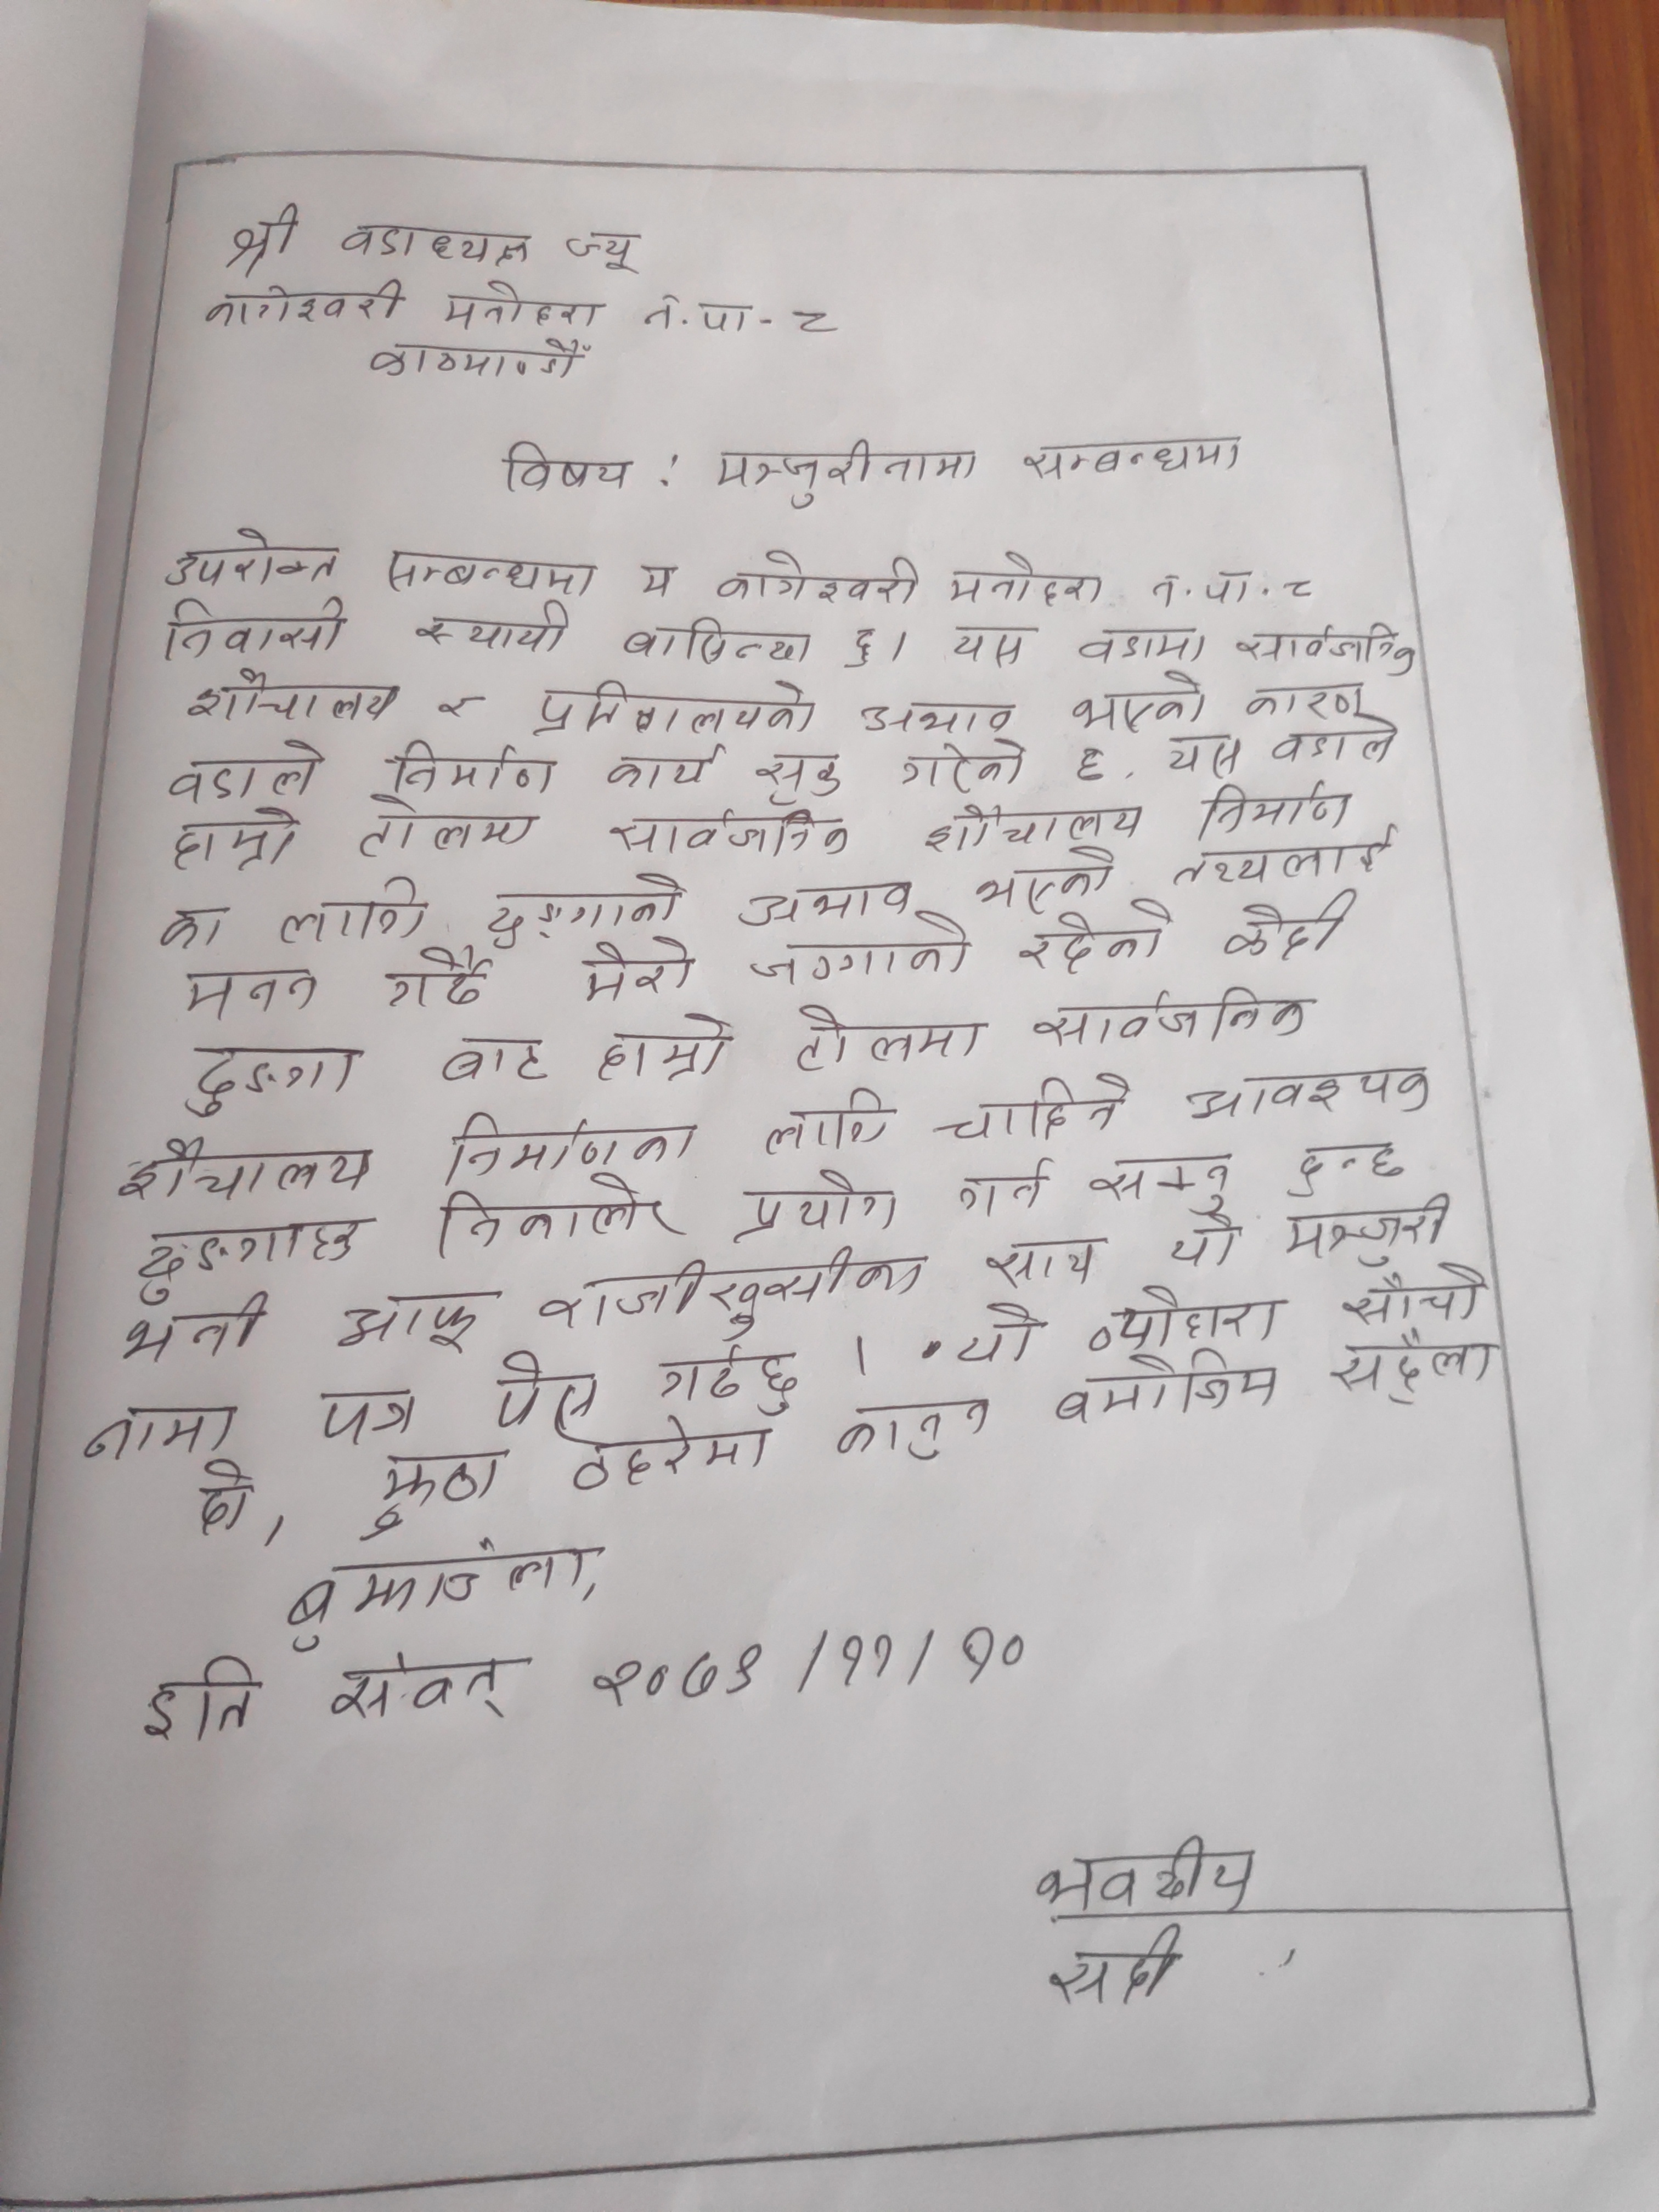text: (589, 1623, 1044, 1710), (284, 1543, 606, 1649), (537, 1247, 936, 1331), (530, 669, 835, 744), (716, 434, 983, 510), (1032, 979, 1309, 1049), (122, 1221, 366, 1299), (429, 1183, 683, 1256), (1018, 1834, 1260, 1911), (436, 1109, 708, 1176), (1185, 1055, 1434, 1125), (112, 1139, 378, 1204), (737, 921, 988, 989), (1042, 1357, 1286, 1426), (603, 796, 859, 860), (572, 1416, 781, 1491), (361, 326, 591, 394), (1012, 428, 1251, 493), (477, 869, 681, 944), (329, 1648, 519, 1726), (1079, 1287, 1290, 1357), (793, 1000, 985, 1075), (936, 1075, 1136, 1146), (179, 1042, 356, 1120), (720, 545, 927, 611), (1321, 1329, 1497, 1406), (1166, 836, 1398, 894), (183, 665, 406, 725), (924, 794, 1147, 853), (732, 1163, 901, 1240), (1033, 1923, 1185, 2008), (382, 542, 599, 601), (150, 597, 354, 660), (382, 732, 563, 799), (830, 1393, 1004, 1463), (331, 1287, 497, 1360), (1279, 1200, 1457, 1268), (615, 610, 817, 669), (274, 873, 437, 944), (655, 1339, 803, 1418), (361, 1456, 519, 1527), (343, 799, 545, 855), (169, 958, 321, 1031), (490, 1343, 606, 1437), (162, 531, 345, 590), (164, 737, 322, 805), (73, 1400, 235, 1467), (1236, 620, 1419, 678), (1012, 909, 1169, 975), (598, 1007, 735, 1082), (202, 284, 413, 333), (143, 1649, 256, 1740), (160, 808, 301, 880), (735, 873, 913, 928), (439, 273, 610, 331), (1190, 782, 1361, 840), (115, 1296, 263, 1362), (1337, 1270, 1497, 1331), (1218, 892, 1358, 961), (1063, 672, 1211, 737), (934, 556, 1110, 610), (1087, 1151, 1230, 1217), (338, 221, 535, 268), (410, 601, 579, 655), (971, 848, 1117, 907), (762, 1089, 896, 1153), (498, 439, 647, 495), (568, 942, 702, 1001), (852, 695, 1014, 742), (317, 1379, 418, 1454), (1279, 1139, 1408, 1197), (892, 742, 1030, 794), (380, 953, 490, 1015), (439, 1031, 549, 1094), (1234, 674, 1370, 725), (1072, 622, 1211, 671), (953, 1296, 1051, 1366), (1269, 725, 1406, 773), (978, 1235, 1103, 1287), (953, 1151, 1056, 1214), (599, 744, 727, 794), (220, 207, 305, 277), (638, 293, 755, 341), (1161, 1211, 1249, 1271), (749, 747, 843, 805), (1143, 566, 1253, 615), (197, 1468, 260, 1541), (945, 620, 1033, 671), (1155, 733, 1246, 780), (157, 902, 234, 954), (561, 230, 652, 273), (429, 691, 495, 732), (1065, 744, 1121, 791), (629, 559, 685, 601), (781, 303, 835, 343), (842, 622, 880, 674), (1286, 577, 1324, 604)
